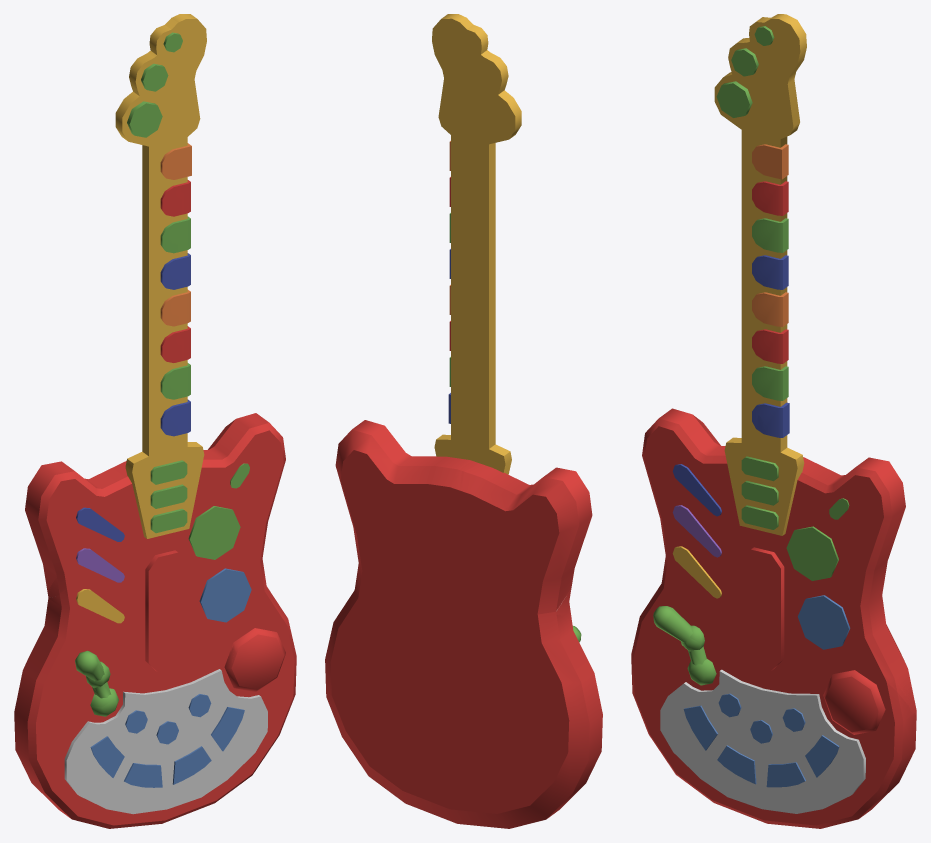
File: Guitar_01.fbx
3 renders of one model, left to right at view 1: azimuth 30°, elevation 25°; view 2: azimuth 150°, elevation 25°; view 3: azimuth 330°, elevation 25°, orthographic. The views are drawn at different scales.
Visible parts, largest first — view 1: Guitar_01, Guitar_01_cell.006_cell.004, Guitar_01_cell.008, Guitar_01_cell.006_cell.001, Guitar_01_cell.031, Guitar_01_cell.006_cell.002, Guitar_01_cell.026, Guitar_01_cell.012, Guitar_01_cell.002, Guitar_01_cell.017, Guitar_01_cell.005, Guitar_01_cell.018 (+6 smaller); view 2: Guitar_01, Guitar_01_cell.005, Guitar_01_cell.006_cell.002, Guitar_01_cell.006_cell.004, Guitar_01_cell.006_cell.001; view 3: Guitar_01, Guitar_01_cell.006_cell.004, Guitar_01_cell.008, Guitar_01_cell.006_cell.001, Guitar_01_cell.031, Guitar_01_cell.006_cell.002, Guitar_01_cell.026, Guitar_01_cell.012, Guitar_01_cell.007, Guitar_01_cell.019, Guitar_01_cell.001, Guitar_01_cell.017 (+6 smaller).
Boxes of the visible parts, x1=… form: Guitar_01: x1=21, y1=14, x2=290, y2=799; Guitar_01_cell.006_cell.004: x1=14, y1=565, x2=296, y2=828; Guitar_01_cell.008: x1=65, y1=669, x2=267, y2=814; Guitar_01_cell.006_cell.001: x1=134, y1=414, x2=290, y2=627; Guitar_01_cell.031: x1=145, y1=550, x2=187, y2=672; Guitar_01_cell.006_cell.002: x1=25, y1=462, x2=137, y2=592; Guitar_01_cell.026: x1=188, y1=506, x2=240, y2=559; Guitar_01_cell.012: x1=199, y1=569, x2=251, y2=622; Guitar_01_cell.002: x1=224, y1=628, x2=285, y2=692; Guitar_01_cell.017: x1=124, y1=763, x2=162, y2=787; Guitar_01_cell.005: x1=116, y1=18, x2=184, y2=230; Guitar_01_cell.018: x1=211, y1=707, x2=244, y2=751; Guitar_01: x1=325, y1=14, x2=595, y2=828; Guitar_01_cell.005: x1=432, y1=14, x2=521, y2=231; Guitar_01_cell.006_cell.002: x1=461, y1=463, x2=592, y2=609; Guitar_01_cell.006_cell.004: x1=422, y1=574, x2=602, y2=818; Guitar_01_cell.006_cell.001: x1=339, y1=420, x2=471, y2=509; Guitar_01: x1=633, y1=14, x2=916, y2=818; Guitar_01_cell.006_cell.004: x1=631, y1=575, x2=916, y2=828; Guitar_01_cell.008: x1=660, y1=669, x2=865, y2=813; Guitar_01_cell.006_cell.001: x1=752, y1=475, x2=911, y2=704; Guitar_01_cell.031: x1=741, y1=547, x2=784, y2=670; Guitar_01_cell.006_cell.002: x1=642, y1=408, x2=731, y2=540; Guitar_01_cell.026: x1=786, y1=526, x2=838, y2=580; Guitar_01_cell.012: x1=797, y1=595, x2=848, y2=649; Guitar_01_cell.007: x1=653, y1=606, x2=702, y2=651; Guitar_01_cell.019: x1=766, y1=762, x2=805, y2=787; Guitar_01_cell.001: x1=672, y1=546, x2=720, y2=598; Guitar_01_cell.017: x1=717, y1=745, x2=755, y2=784.
Size of the model in its own units: 0.4294 by 1.23 by 0.1097.
